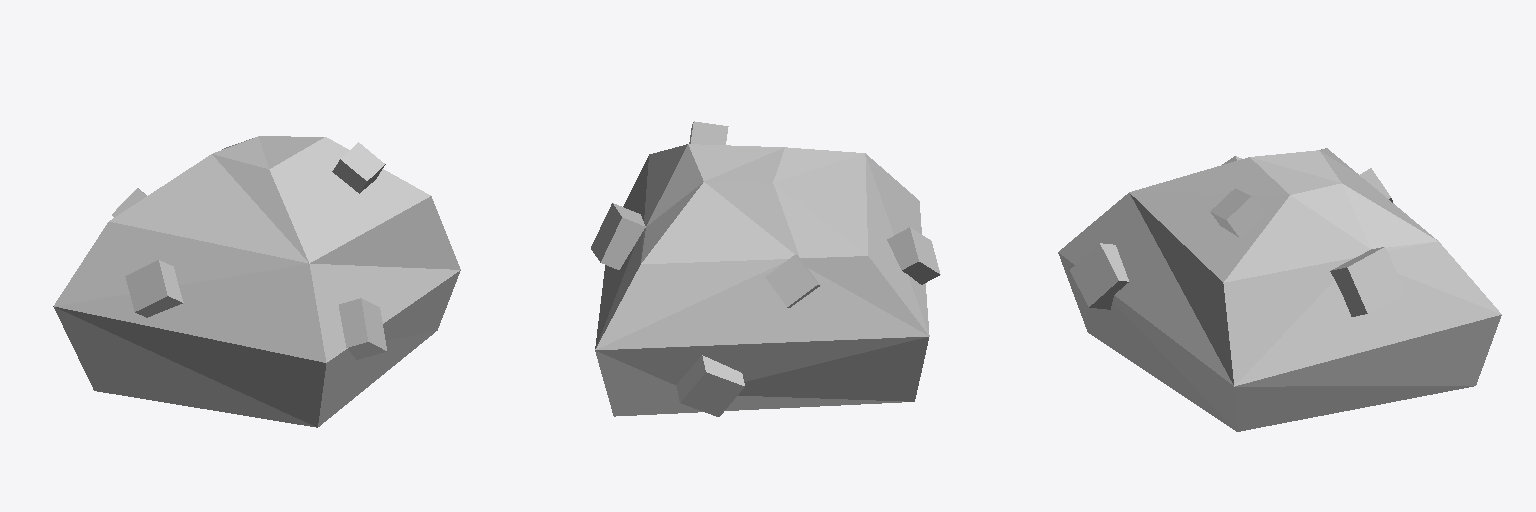
File: Cap2.obj
The picture shows the model from 3 angles: view 1: azimuth 30°, elevation 25°; view 2: azimuth 150°, elevation 25°; view 3: azimuth 270°, elevation 25°; orthographic projection.
Parts seen in each view (by area): view 1: Cap2; view 2: Cap2; view 3: Cap2.
Part boxes in pixels (bbox=[...]): Cap2: bbox=[53, 136, 460, 427]; Cap2: bbox=[591, 121, 940, 416]; Cap2: bbox=[1058, 148, 1501, 431].
Bounding box in the file's own units: 0.3099 × 0.167 × 0.3271.